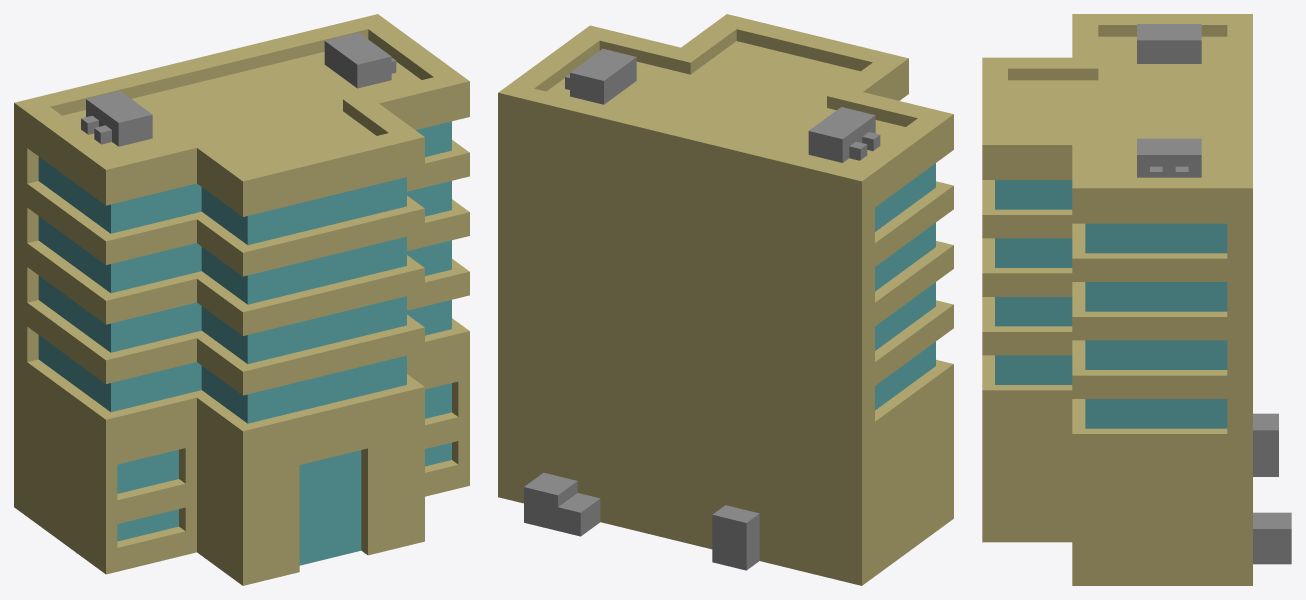
File: Building05.fbx
3 renders of one model, left to right at view 1: azimuth 30°, elevation 25°; view 2: azimuth 150°, elevation 25°; view 3: azimuth 270°, elevation 25°, orthographic.
Visible parts, largest first — view 1: ObjObject.008; view 2: ObjObject.008; view 3: ObjObject.008.
Part boxes in pixels (x1=…): ObjObject.008: x1=14, y1=14, x2=469, y2=585; ObjObject.008: x1=498, y1=14, x2=953, y2=585; ObjObject.008: x1=982, y1=14, x2=1291, y2=585.
Size of the model in its own units: 320 by 240 by 350.
1 material, 1 textured.
